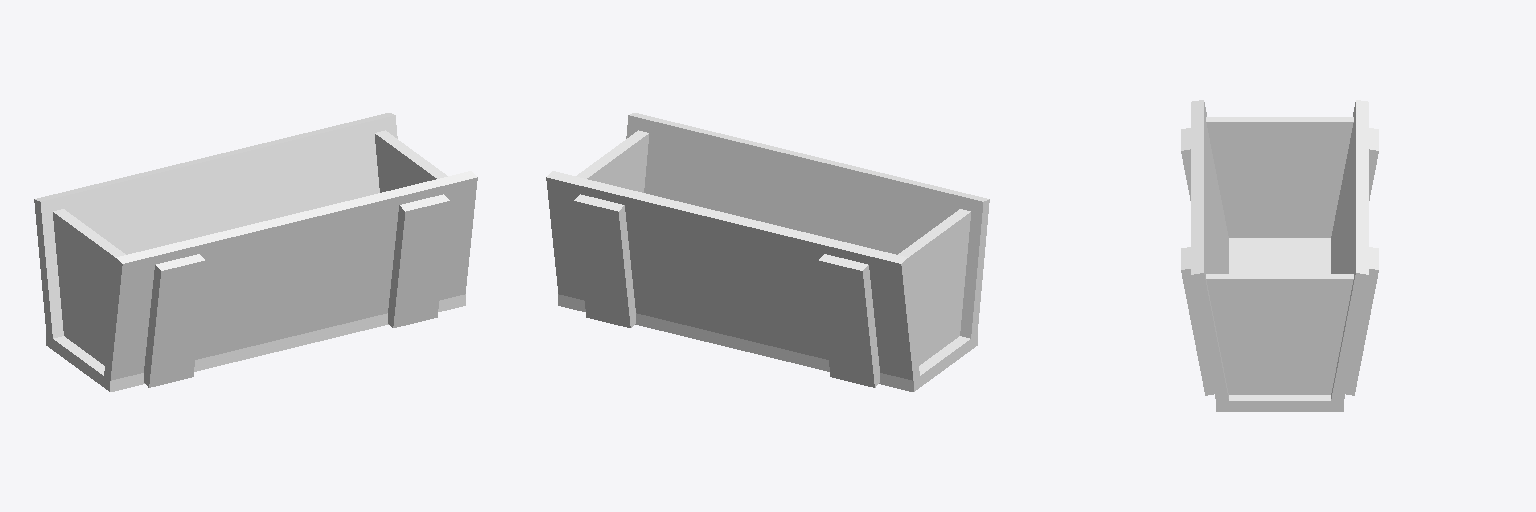
Rendered from feeding_trough.obj.
The picture shows the model from 3 angles: view 1: azimuth 30°, elevation 25°; view 2: azimuth 150°, elevation 25°; view 3: azimuth 270°, elevation 25°; orthographic projection.
Visible parts, largest first — view 1: model; view 2: model; view 3: model.
Part boxes in pixels (x1,y1,x2,y2): model: (34, 113, 477, 391); model: (546, 113, 989, 391); model: (1181, 100, 1378, 411).
Size of the model in its own units: 2 by 0.7504 by 0.9671.